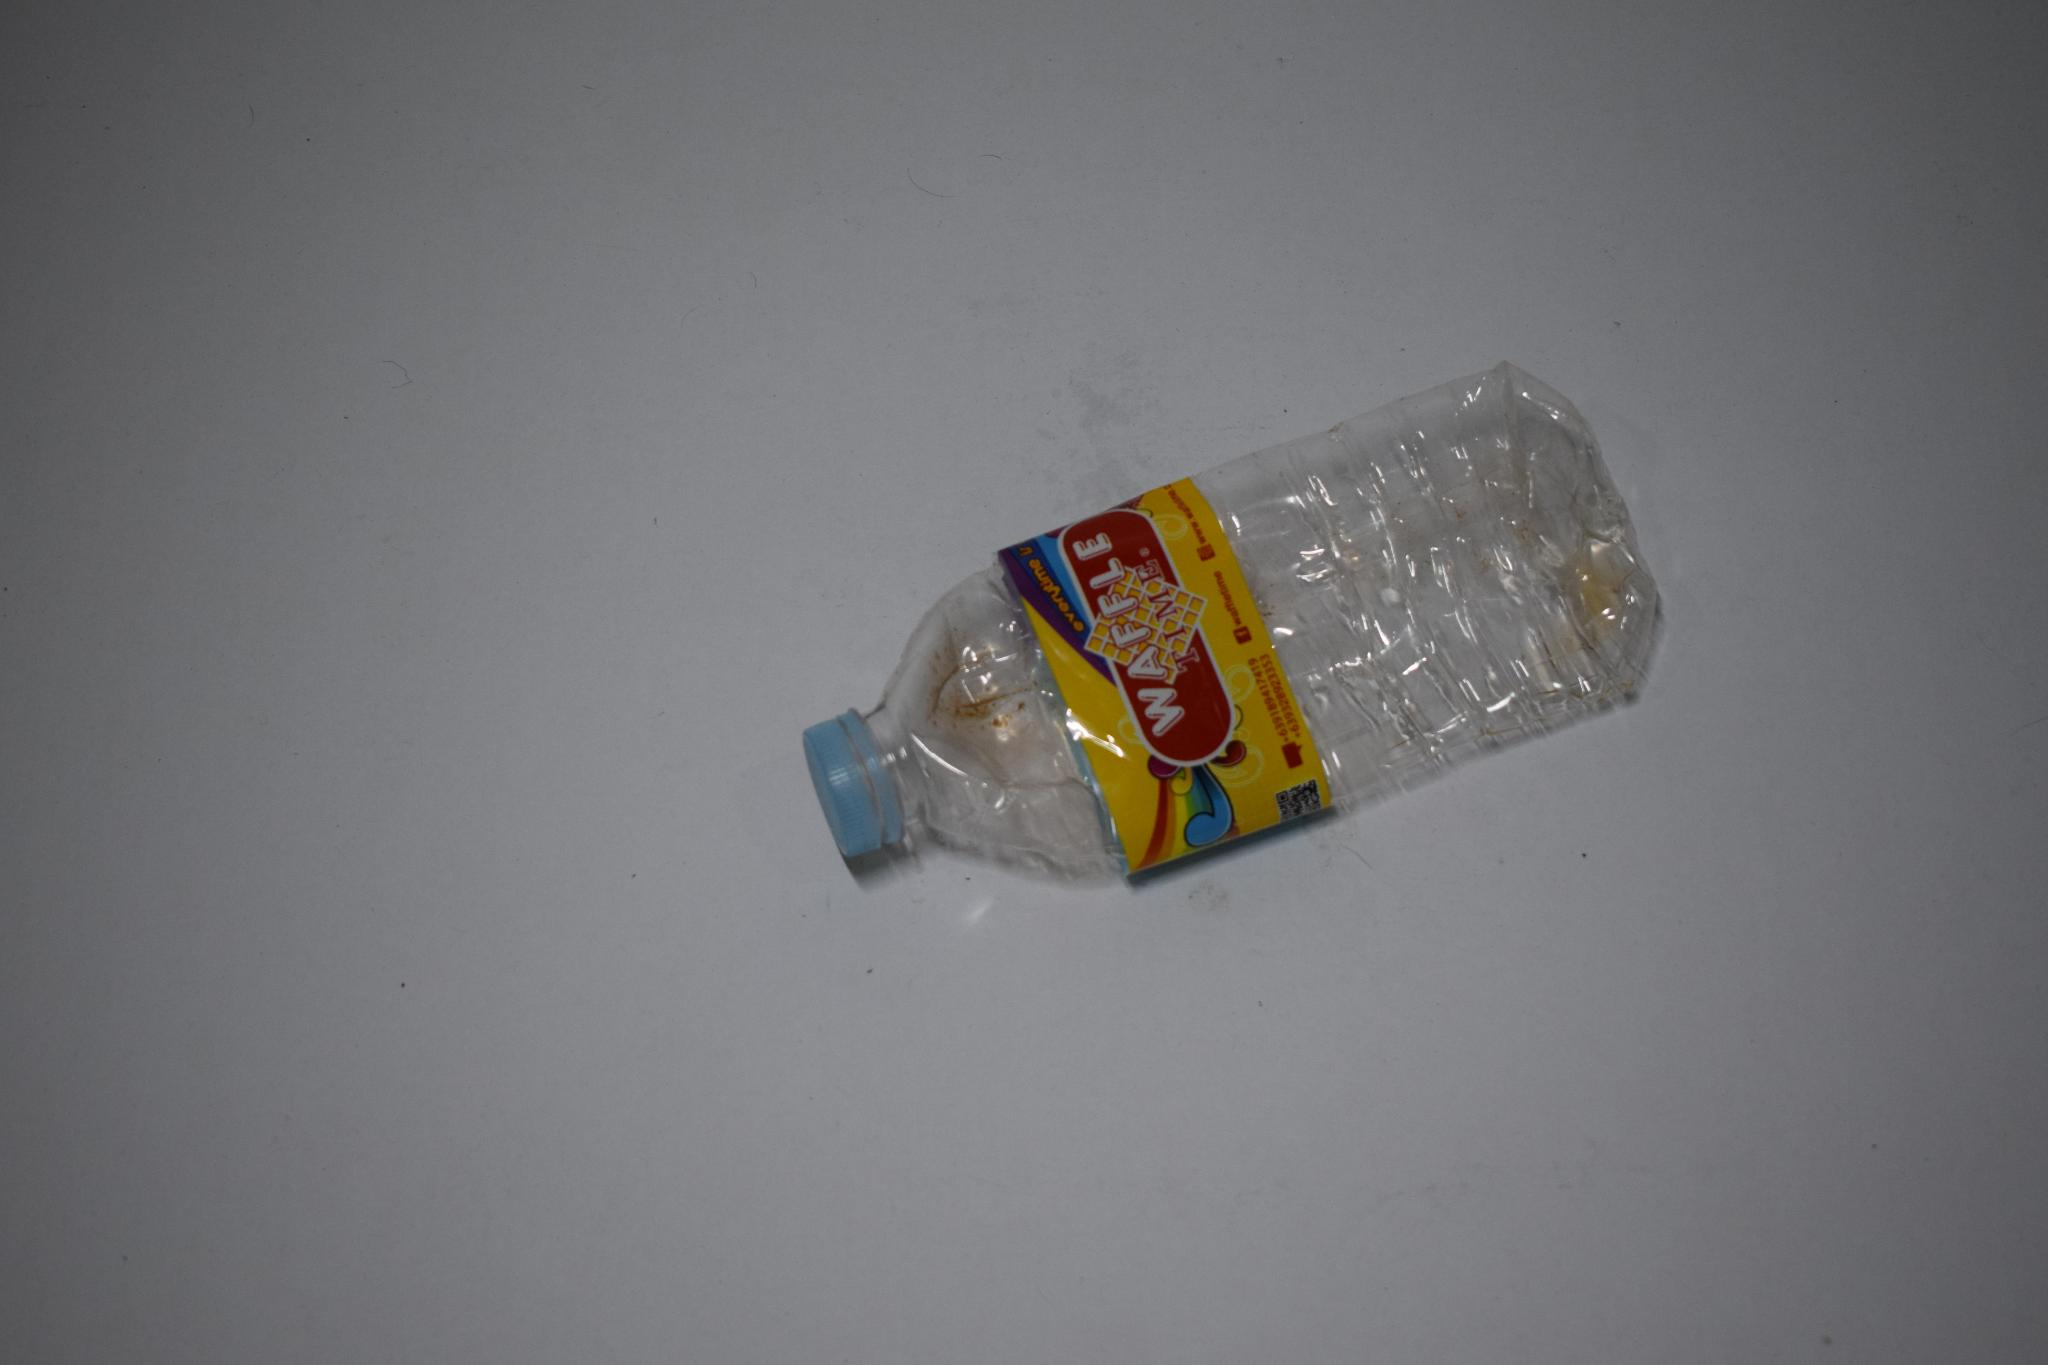bottle: (792, 370, 1666, 913)
